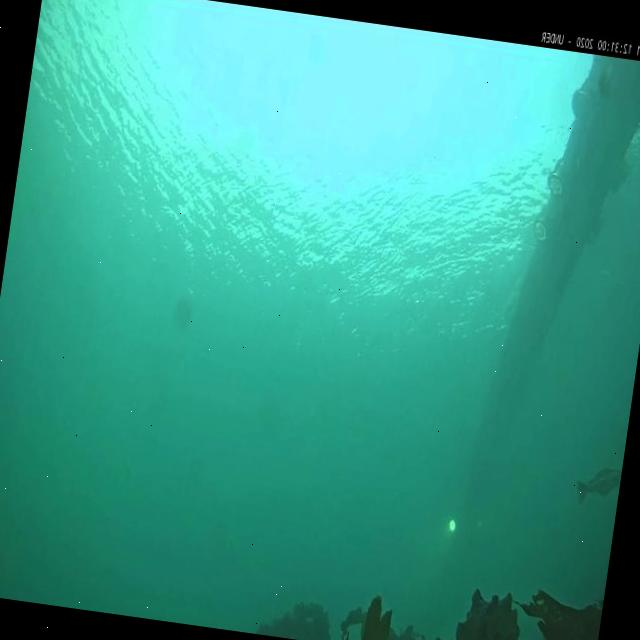fish: (574, 466, 622, 510)
